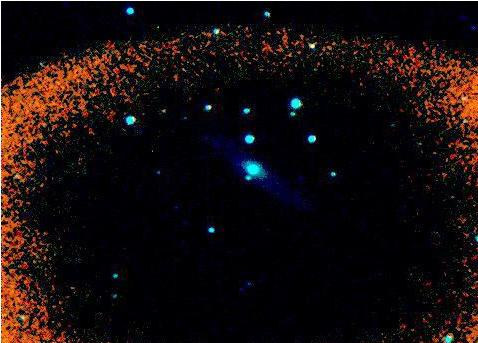star: (232, 148, 262, 178)
